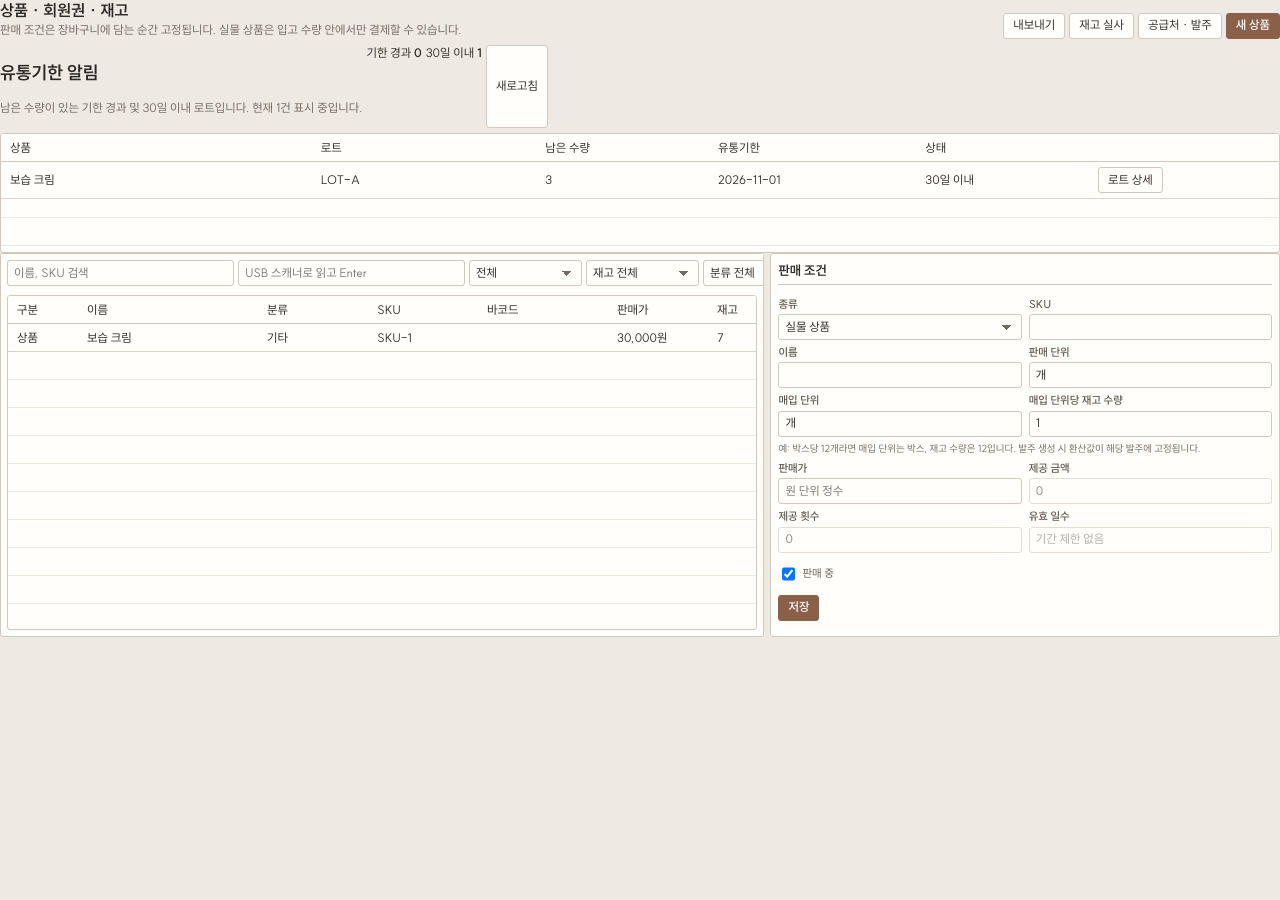
Test: InventoryPage › 조직 전체의 유통기한 알림에서 해당 상품의 로트 상세를 연다
Expected: the text "LOT-A" is shown, [312, 162, 536, 200]
Expected: the cell "30일 이내" is shown, [916, 162, 1089, 200]
What coordinates should you click on to do the following:
click the button "로트 상세"
I would click on:
 (1130, 180)
Its box is [1098, 168, 1163, 194].
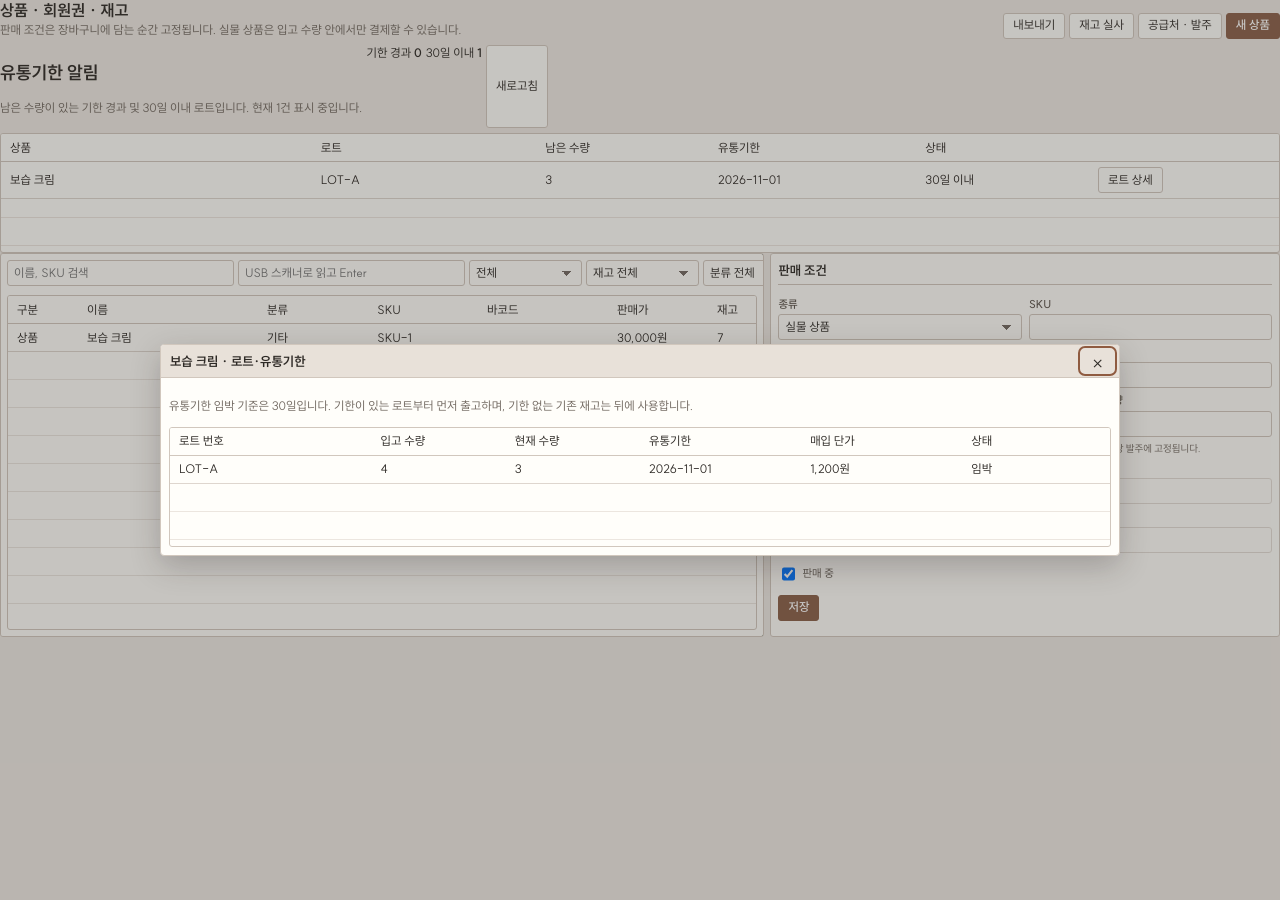
Expected: the dialog "보습 크림 · 로트·유통기한" is shown, [160, 344, 1120, 556]
